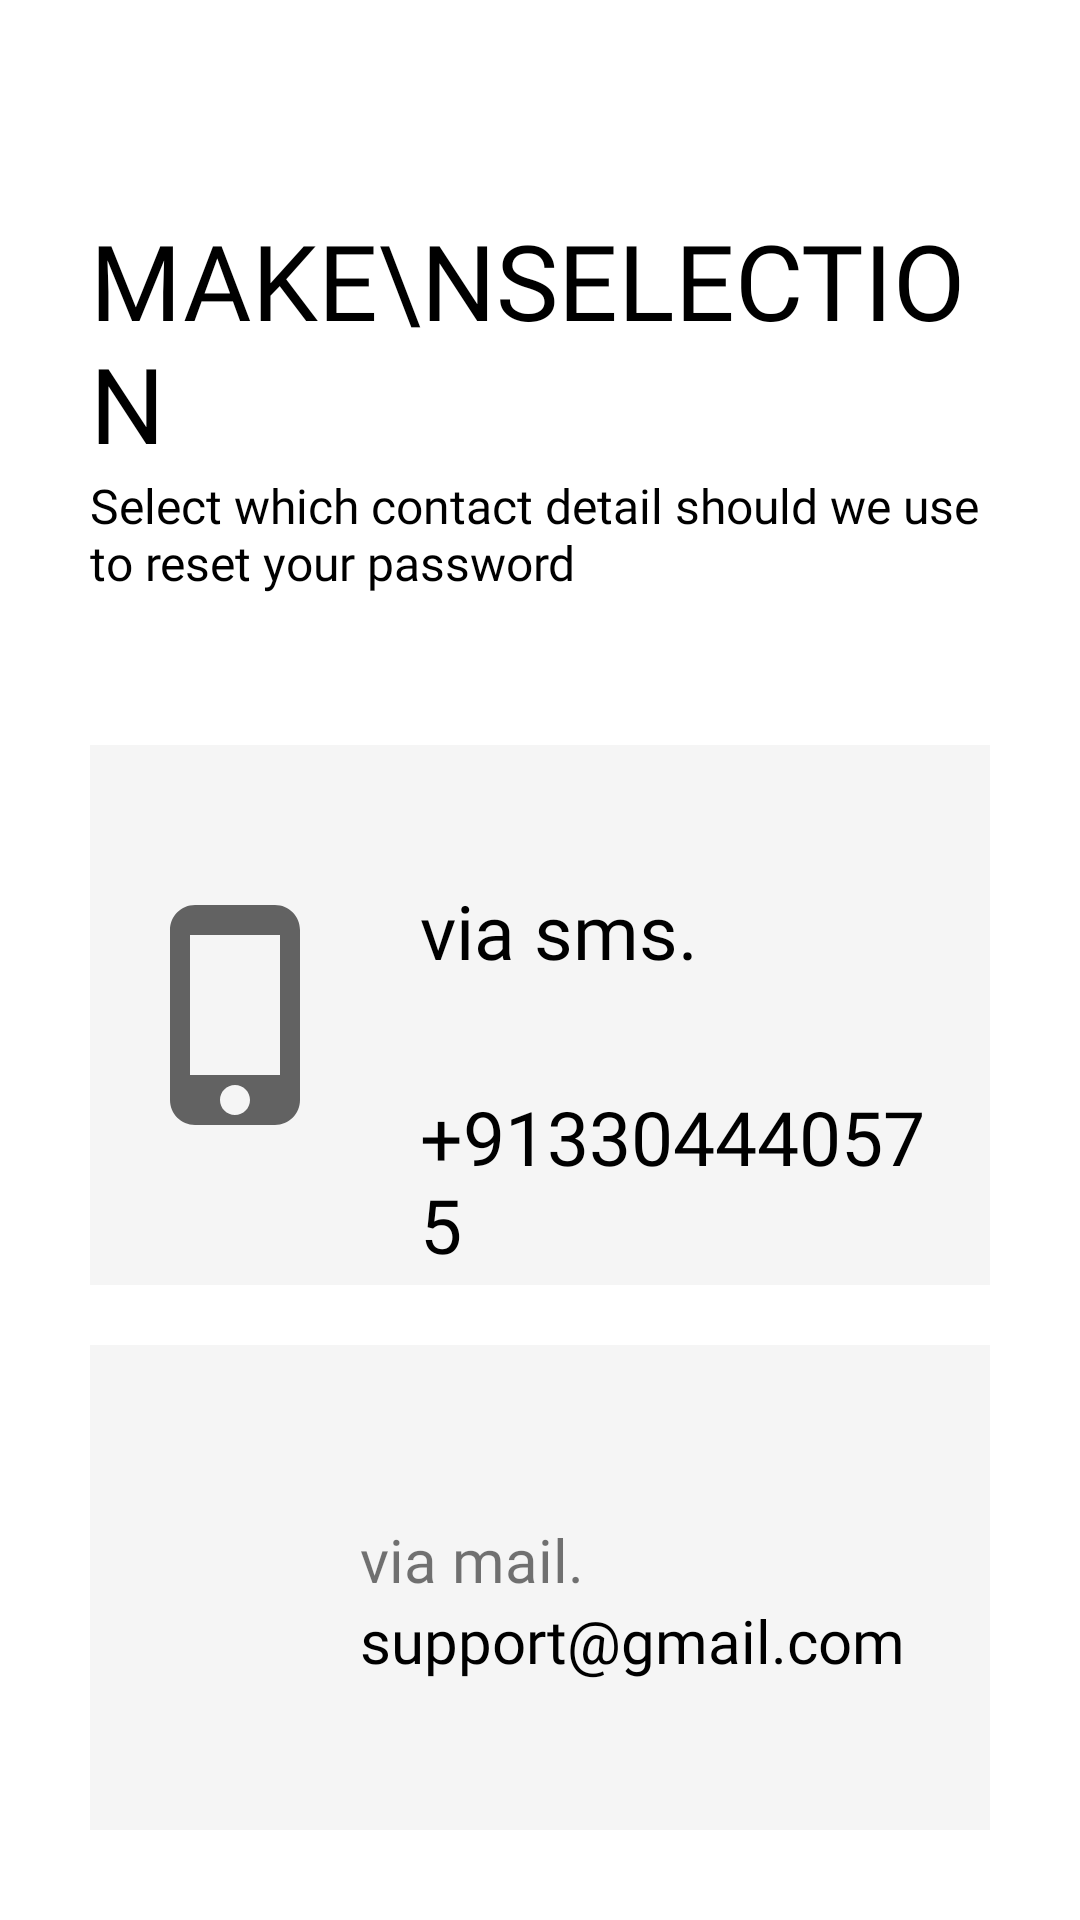

Locate icon controls on the screen. Image size 1080px x 1920px, boxes as (x1, y1, x2, y2).
mobile custom: (170, 905, 300, 1125)
